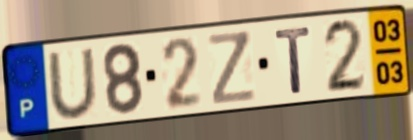2: (158, 35, 205, 113), (323, 17, 367, 94)
8: (101, 41, 145, 118)
T: (273, 24, 314, 96)
U: (45, 45, 101, 121)
Z: (205, 28, 259, 108)
